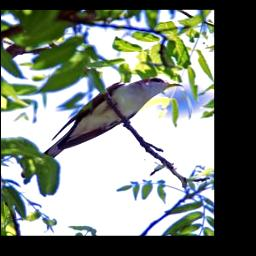Cuckoo: (20, 76, 183, 178)
